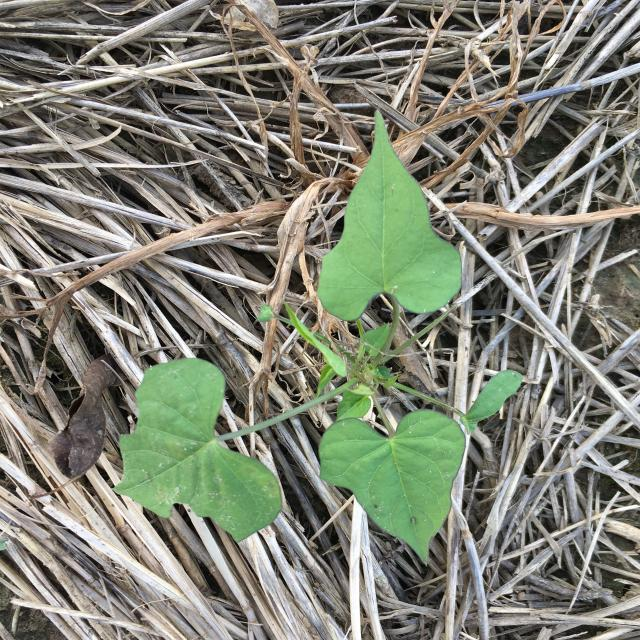MorningGlory: (112, 110, 524, 564)
